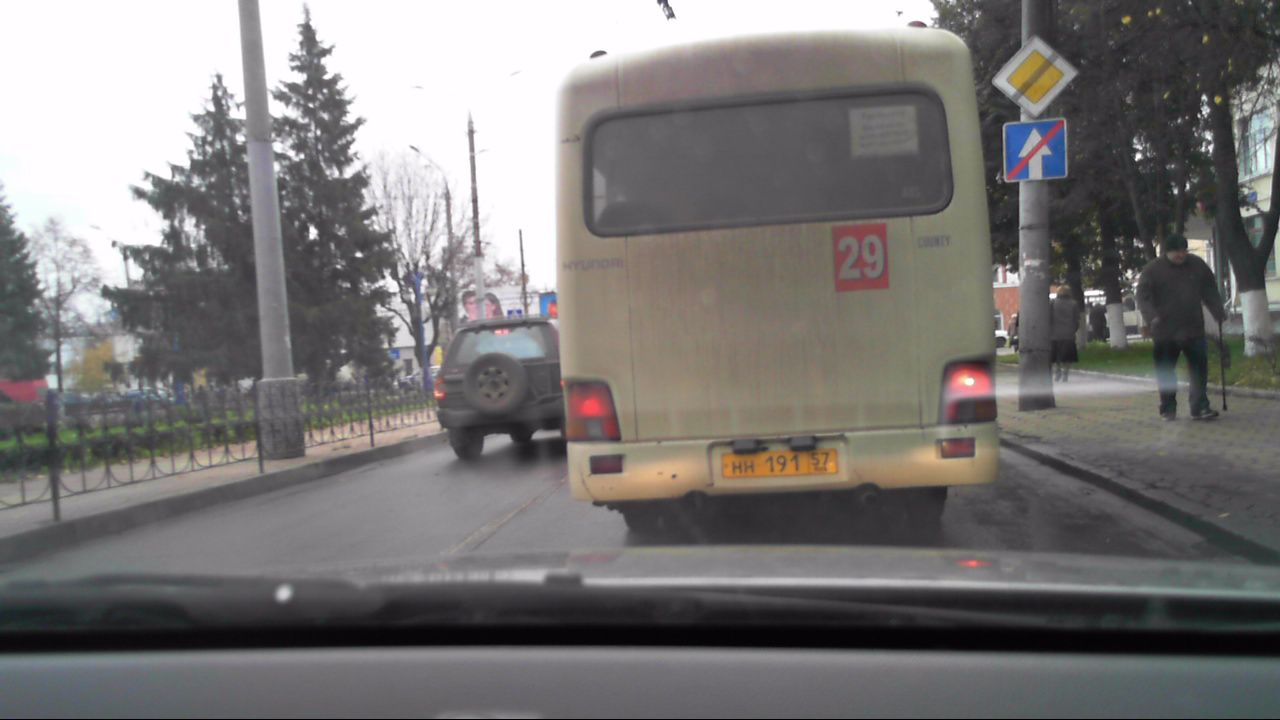main road: (990, 34, 1082, 117)
